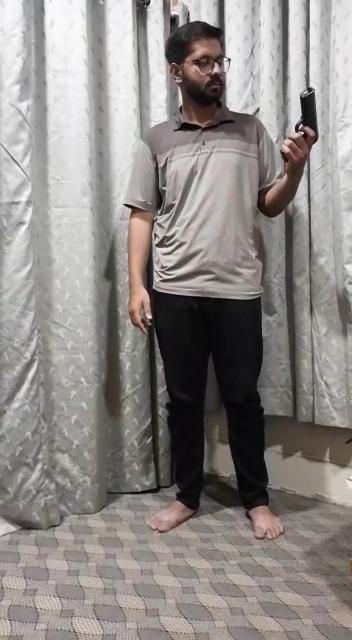criminal: (122, 22, 325, 545)
weapon: (275, 85, 323, 166)
